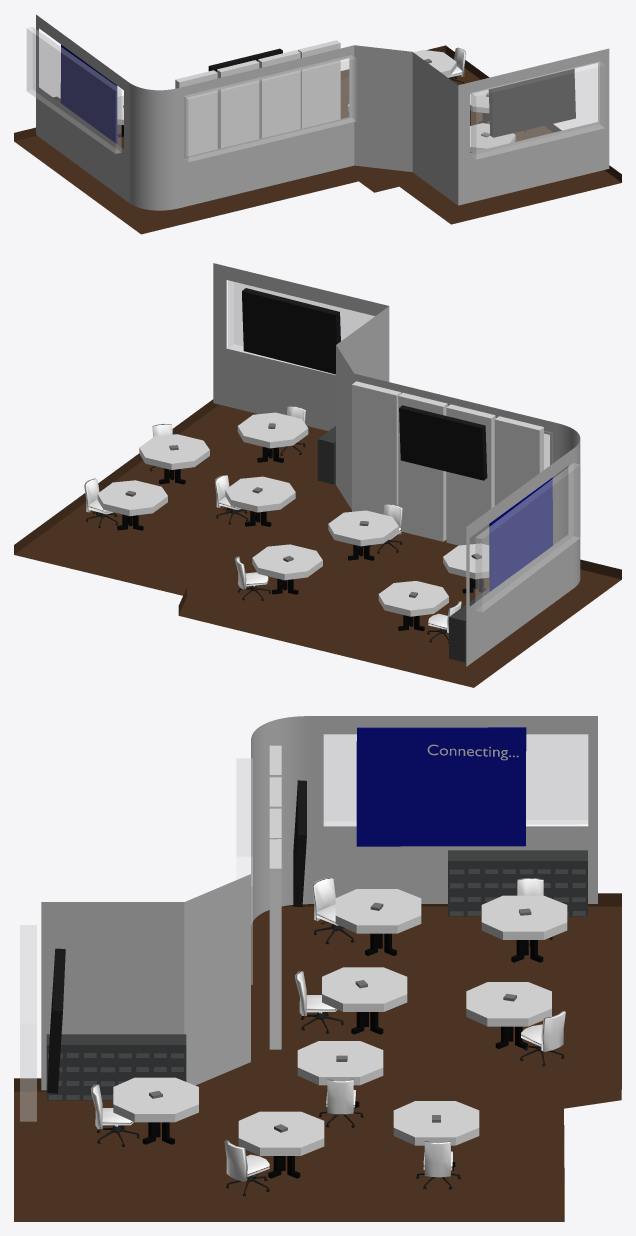
File: projetoInterSala.glb
The picture shows the model from 3 angles, top to bottom: view 1: azimuth 30°, elevation 25°; view 2: azimuth 150°, elevation 25°; view 3: azimuth 270°, elevation 25°; orthographic projection. The views are drawn at different scales.
Parts seen in each view (by area): view 1: Cube, Plane, Cube.062, Cube.007, Cube.063, Cube.008, Cube.009, Cube.011, Cube.010, Cube.003, Cube.012, Cube.021 (+3 smaller); view 2: Plane, Cube, Cube.063, Cube.008, Cube.003, Cube.006, Cube.009, Cube.010, Cube.011, Cube.012, Cube.007, Cube.021 (+9 smaller); view 3: Plane, Cube, Cube.009, Cube.063, Cube.001, Cube.002, Cube.021, Cube.037, Cube.036, Cube.020, Cube.029, Cube.044 (+11 smaller).
Part boxes in pixels (bbox=[...]): Cube: bbox=[36, 14, 609, 210]; Plane: bbox=[14, 45, 621, 234]; Cube.062: bbox=[184, 55, 356, 161]; Cube.007: bbox=[471, 61, 604, 159]; Cube.063: bbox=[27, 27, 121, 153]; Cube.008: bbox=[488, 69, 575, 137]; Cube.009: bbox=[60, 44, 117, 143]; Cube.011: bbox=[217, 60, 259, 148]; Cube.010: bbox=[258, 50, 300, 138]; Cube.003: bbox=[298, 40, 340, 128]; Cube.012: bbox=[175, 70, 217, 156]; Cube.021: bbox=[470, 123, 515, 152]; Plane: bbox=[14, 399, 621, 687]; Cube: bbox=[213, 263, 580, 666]; Cube.063: bbox=[475, 463, 580, 611]; Cube.008: bbox=[242, 288, 340, 374]; Cube.003: bbox=[352, 381, 401, 514]; Cube.006: bbox=[399, 405, 487, 480]; Cube.009: bbox=[489, 477, 552, 591]; Cube.010: bbox=[398, 392, 447, 541]; Cube.011: bbox=[446, 404, 495, 545]; Cube.012: bbox=[494, 416, 543, 505]; Cube.007: bbox=[228, 280, 374, 374]; Cube.021: bbox=[237, 412, 308, 448]; Plane: bbox=[14, 893, 621, 1221]; Cube: bbox=[41, 716, 597, 1090]; Cube.009: bbox=[356, 727, 526, 846]; Cube.063: bbox=[324, 734, 587, 825]; Cube.001: bbox=[448, 850, 587, 916]; Cube.002: bbox=[46, 1034, 186, 1100]; Cube.021: bbox=[113, 1077, 198, 1122]; Cube.037: bbox=[481, 895, 567, 939]; Cube.036: bbox=[335, 889, 421, 933]; Cube.020: bbox=[238, 1111, 324, 1155]; Cube.029: bbox=[322, 967, 407, 1011]; Cube.044: bbox=[466, 982, 551, 1026].
Size of the model in its own units: 88.29 by 26.34 by 71.98.
